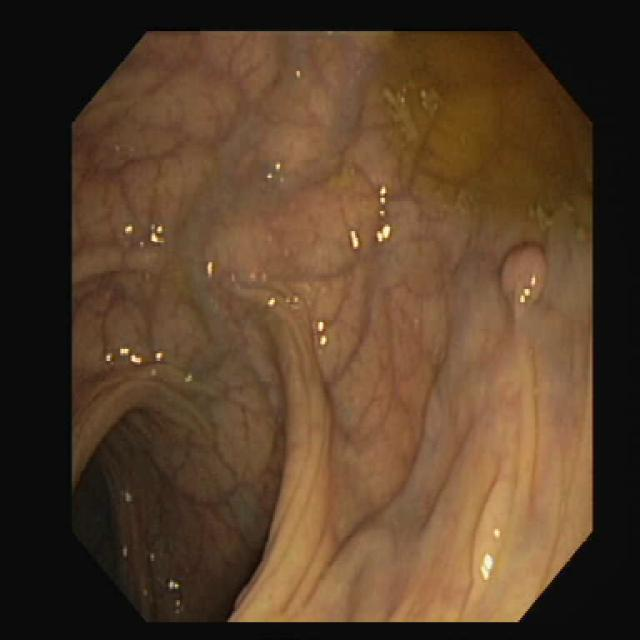tumor: (497, 244, 543, 300)
